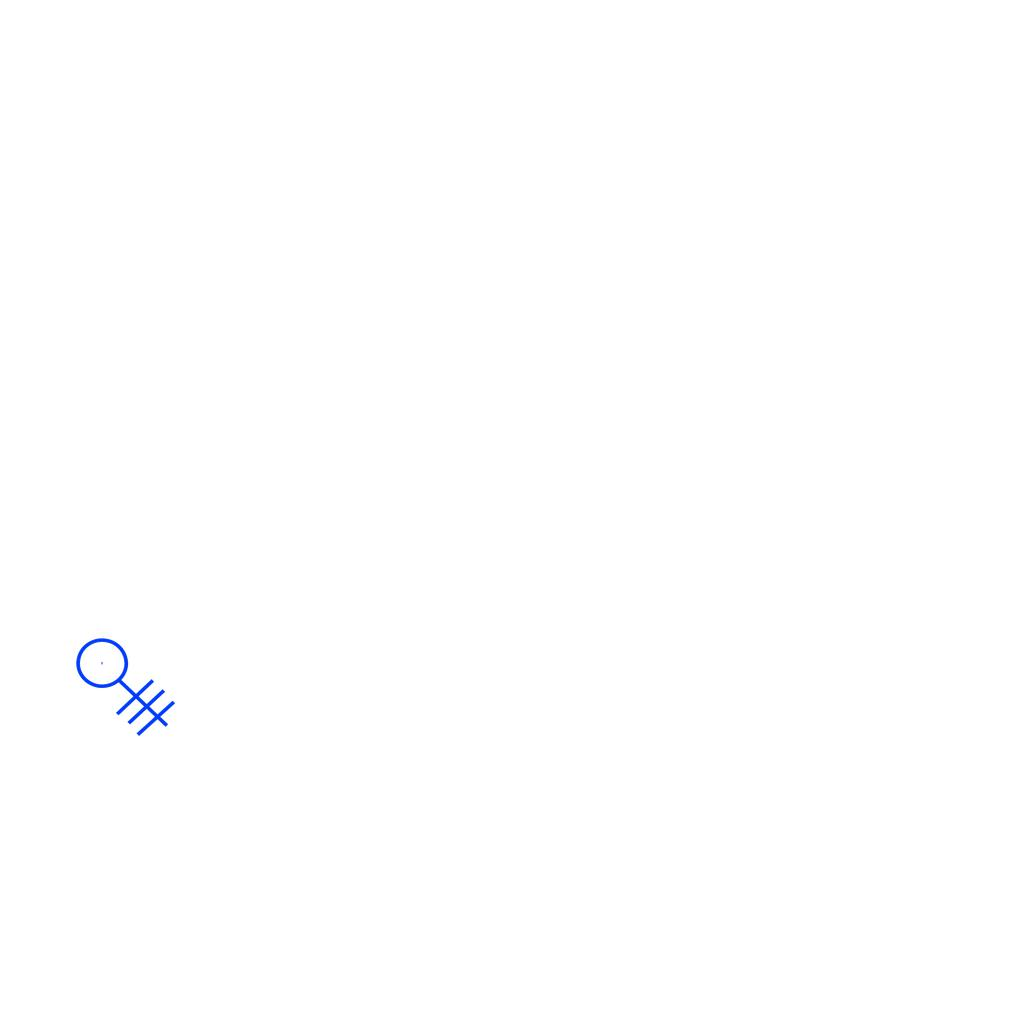Elektroanschluss_allgemein_400V_Geraeteanschlussdose_400V: (75, 621, 188, 737)
